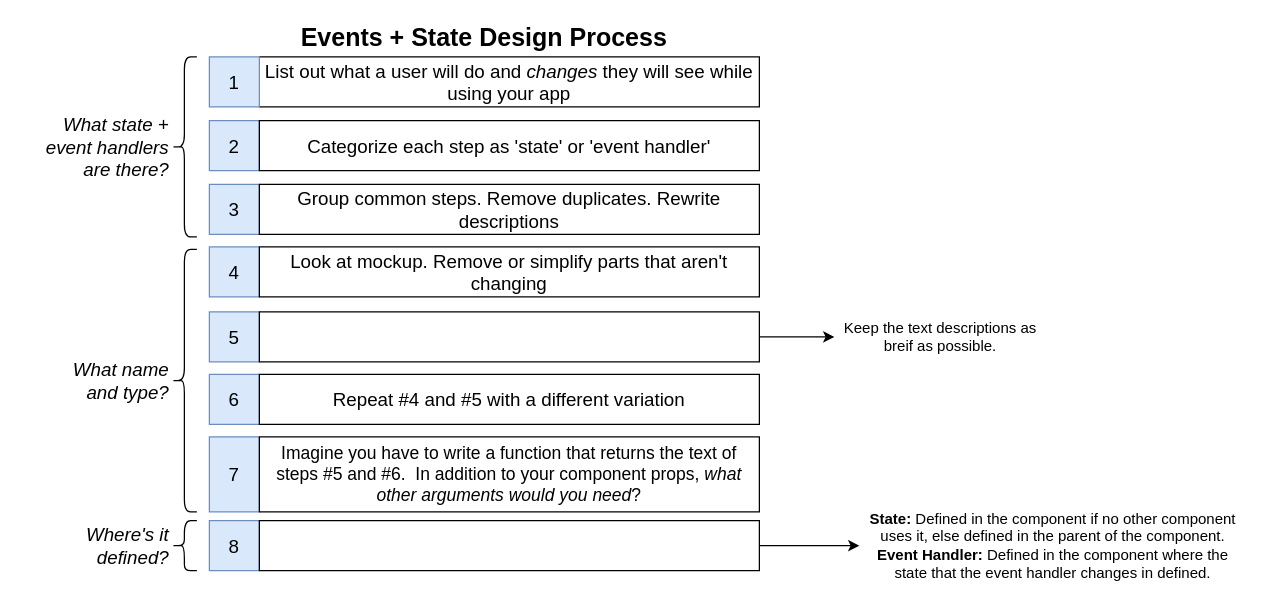
Some shapes in this 1268 by 603 pixel diagram are drawn without their labels. The box of each missing label's shape, as (x1, y1, x2, y2) in pixels:
Decide where each event handler + state will be defined: (258, 519, 759, 571)
Replace remaining elements with text descriptions: (258, 311, 759, 362)
